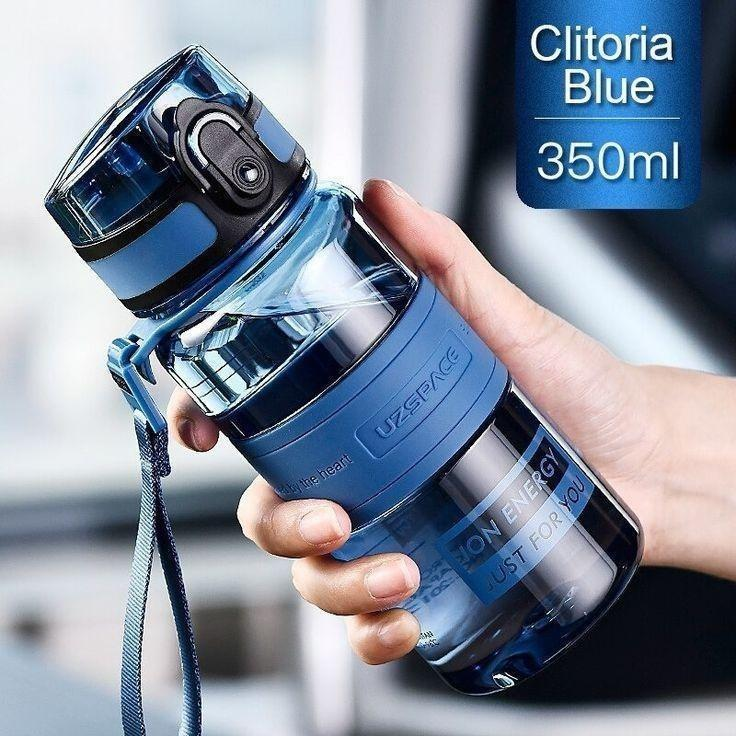gym bottle: (45, 47, 642, 694)
